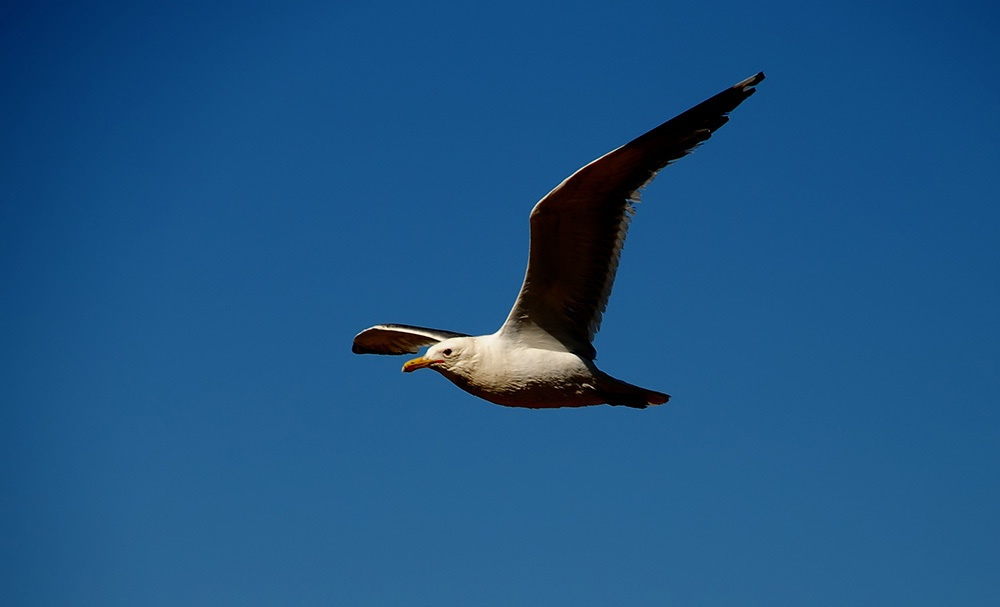bird: (348, 66, 767, 415)
